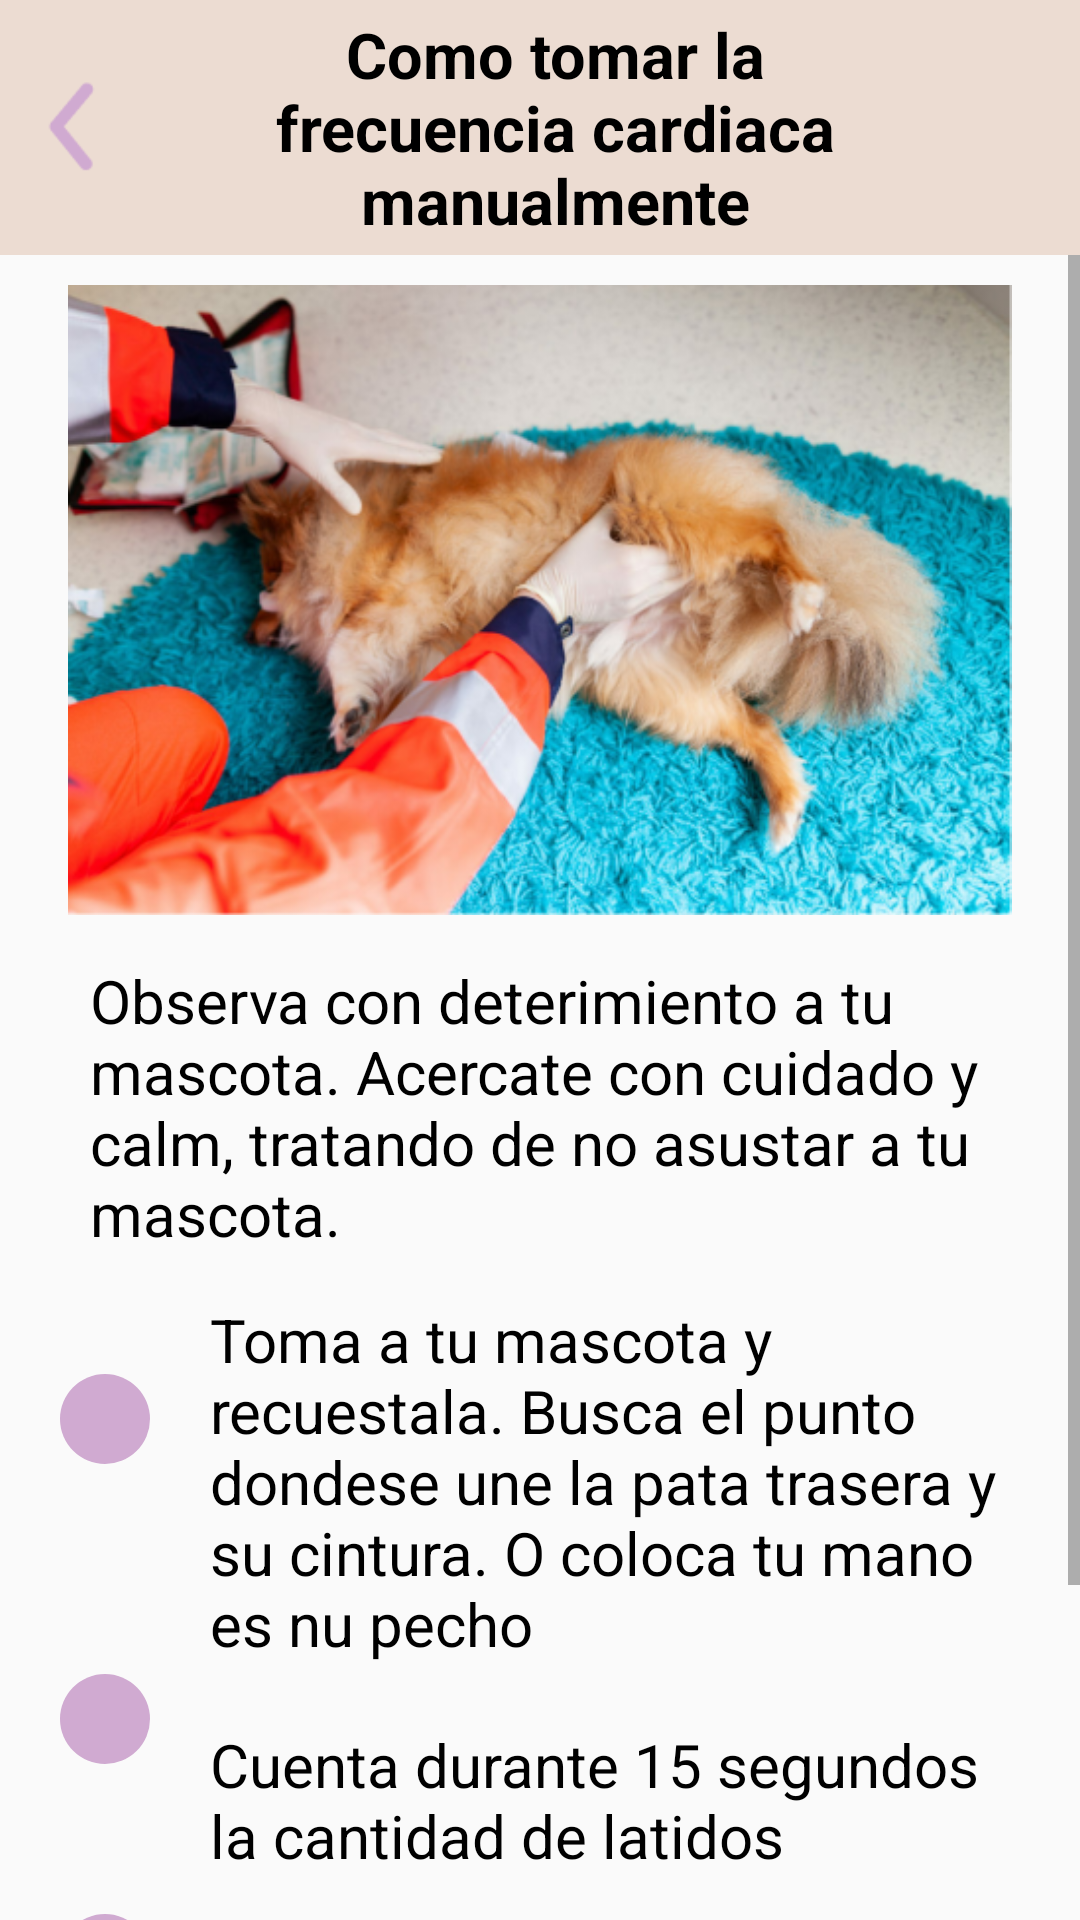

Icon click points for this 1080*1920 phone screenshot, format point (x, y):
back: point (71, 126)
